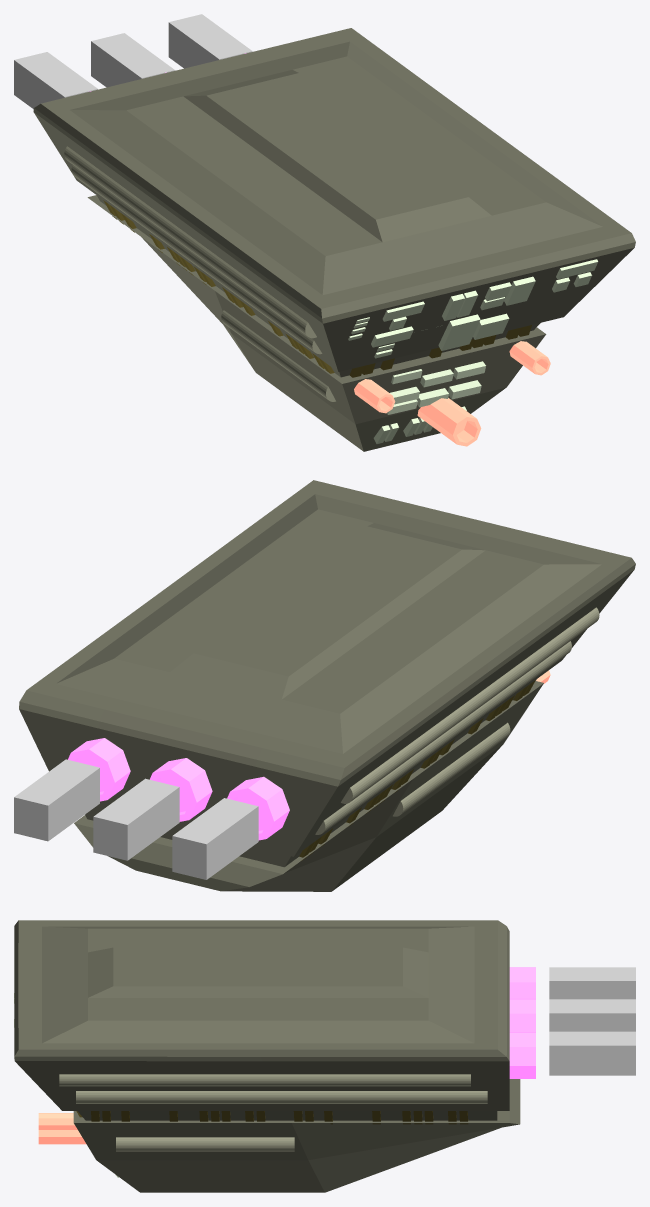
Rendered from enemy_ship2.glb.
The picture shows the model from 3 angles, top to bottom: view 1: azimuth 30°, elevation 25°; view 2: azimuth 150°, elevation 25°; view 3: azimuth 270°, elevation 25°; orthographic projection. The views are drawn at different scales.
Parts seen in each view (by area): view 1: MainObject, Cube.006, Cube.001, Cylinder.005, Cylinder.003, Cube.000; view 2: MainObject, Cube.001, Cylinder.005, Cylinder.002, Cube.000; view 3: MainObject, Cylinder.005, Cube.001, Cylinder.002, Cube.000, Cylinder.003.
Boxes of the visible parts, x1=… form: MainObject: x1=33, y1=28, x2=635, y2=451; Cube.006: x1=348, y1=259, x2=598, y2=443; Cube.001: x1=14, y1=14, x2=252, y2=109; Cylinder.005: x1=64, y1=146, x2=335, y2=401; Cylinder.003: x1=354, y1=341, x2=550, y2=446; Cube.000: x1=103, y1=200, x2=531, y2=377; MainObject: x1=19, y1=480, x2=635, y2=891; Cube.001: x1=14, y1=759, x2=258, y2=879; Cylinder.005: x1=315, y1=607, x2=599, y2=834; Cylinder.002: x1=68, y1=738, x2=289, y2=840; Cube.000: x1=299, y1=680, x2=535, y2=860; MainObject: x1=14, y1=920, x2=520, y2=1192; Cylinder.005: x1=59, y1=1074, x2=487, y2=1151; Cube.001: x1=549, y1=967, x2=635, y2=1075; Cylinder.002: x1=509, y1=967, x2=535, y2=1078; Cube.000: x1=76, y1=1111, x2=468, y2=1124; Cylinder.003: x1=38, y1=1113, x2=86, y2=1144.
Bounding box in the file's own units: 32.74 × 24.38 × 65.74.
